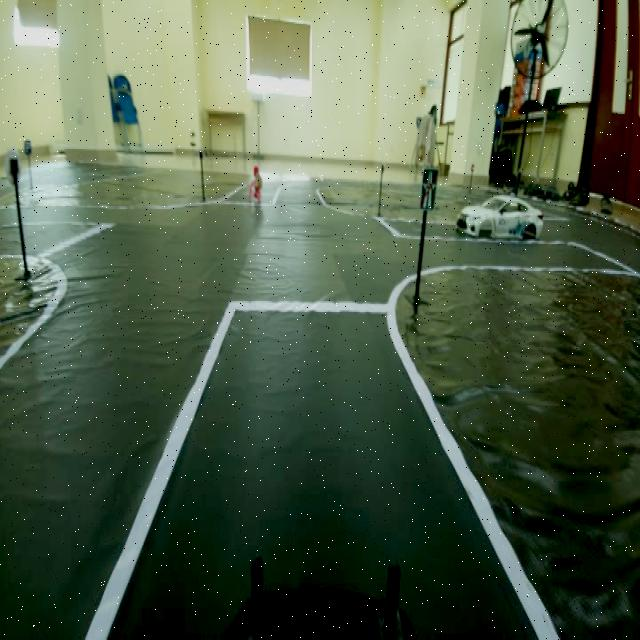highway_exit: (414, 164, 440, 218)
